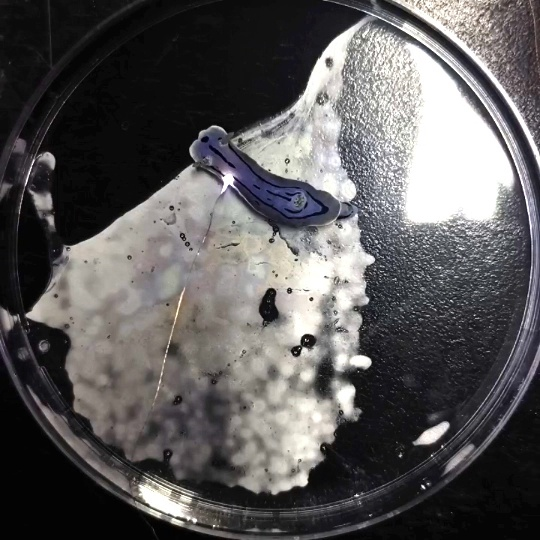sea-slug: (119, 70, 326, 209)
